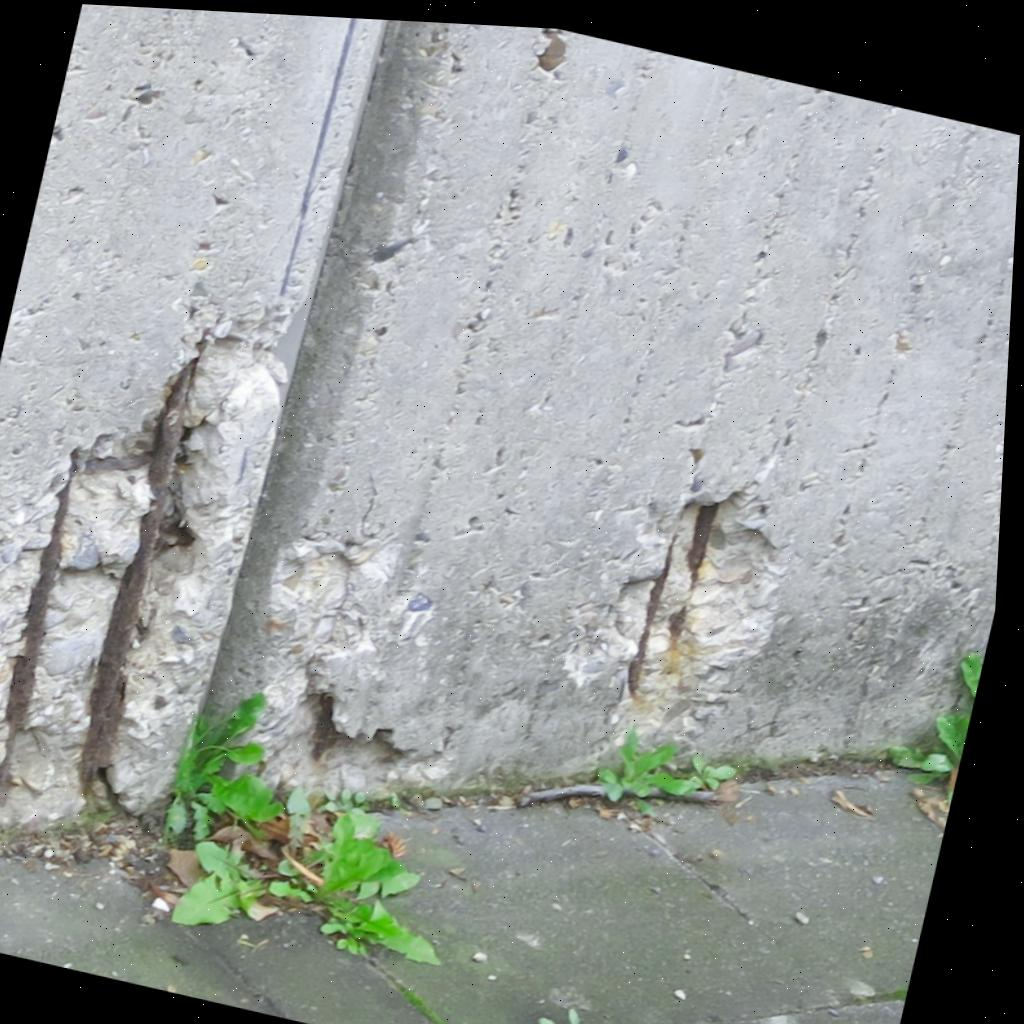exposed_rebar: (79, 357, 197, 791), (0, 452, 80, 805), (627, 535, 676, 697), (686, 504, 718, 586)
spalling: (0, 328, 287, 822), (558, 490, 781, 743)
